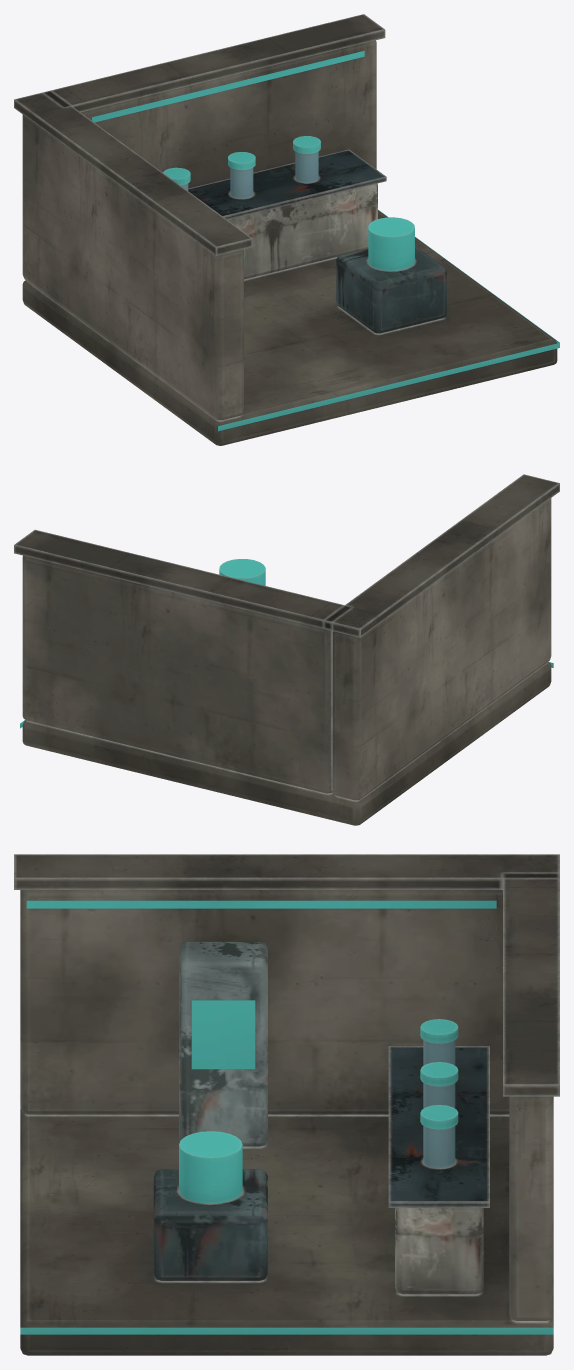
File: research_institute.glb
3 views of the same model, one above another, from view 1: azimuth 30°, elevation 25°; view 2: azimuth 150°, elevation 25°; view 3: azimuth 270°, elevation 25° (orthographic). The views are drawn at different scales.
Visible parts, largest first — view 1: te_research_institute; view 2: te_research_institute; view 3: te_research_institute.
Boxes of the visible parts, <box> form: te_research_institute: <box>14,14,559,445</box>; te_research_institute: <box>14,474,559,825</box>; te_research_institute: <box>14,854,559,1355</box>.
Size of the model in its own units: 0.86 by 0.48 by 0.86.
1 material, 1 textured.
